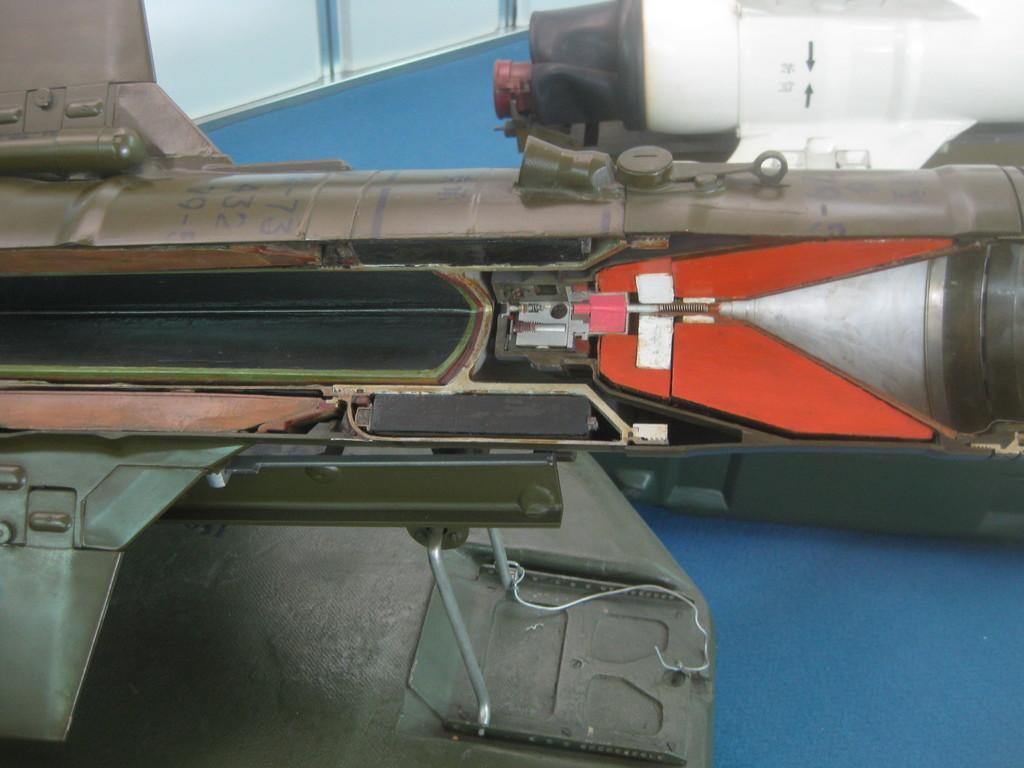Rifle: (0, 0, 1023, 752)
